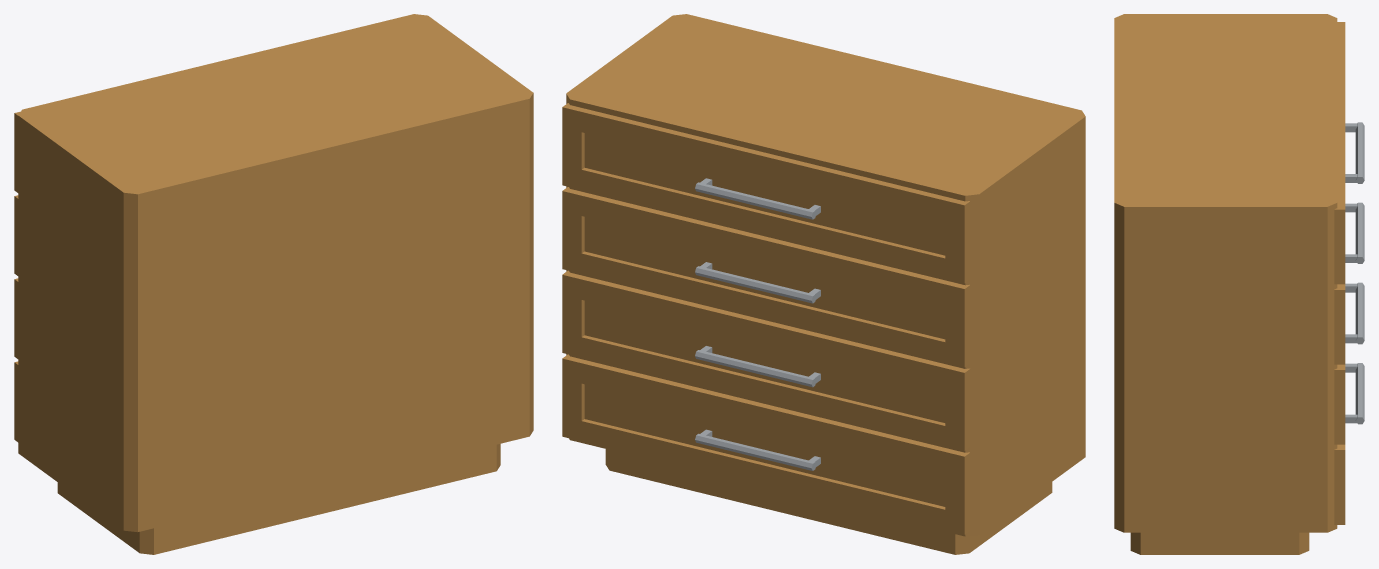
File: SM_LPI_Storage_Drawers_01.fbx
3 views of the same model, side by side, from view 1: azimuth 30°, elevation 25°; view 2: azimuth 150°, elevation 25°; view 3: azimuth 270°, elevation 25° (orthographic). The views are drawn at different scales.
Parts seen in each view (by area): view 1: SM_LPI_Storage_Drawers_01; view 2: SM_LPI_Storage_Drawers_01; view 3: SM_LPI_Storage_Drawers_01.
Part boxes in pixels (bbox=[...]): SM_LPI_Storage_Drawers_01: bbox=[14, 14, 533, 554]; SM_LPI_Storage_Drawers_01: bbox=[562, 14, 1085, 554]; SM_LPI_Storage_Drawers_01: bbox=[1114, 14, 1364, 554].
Size of the model in its own units: 0.92 by 0.8 by 0.505.
